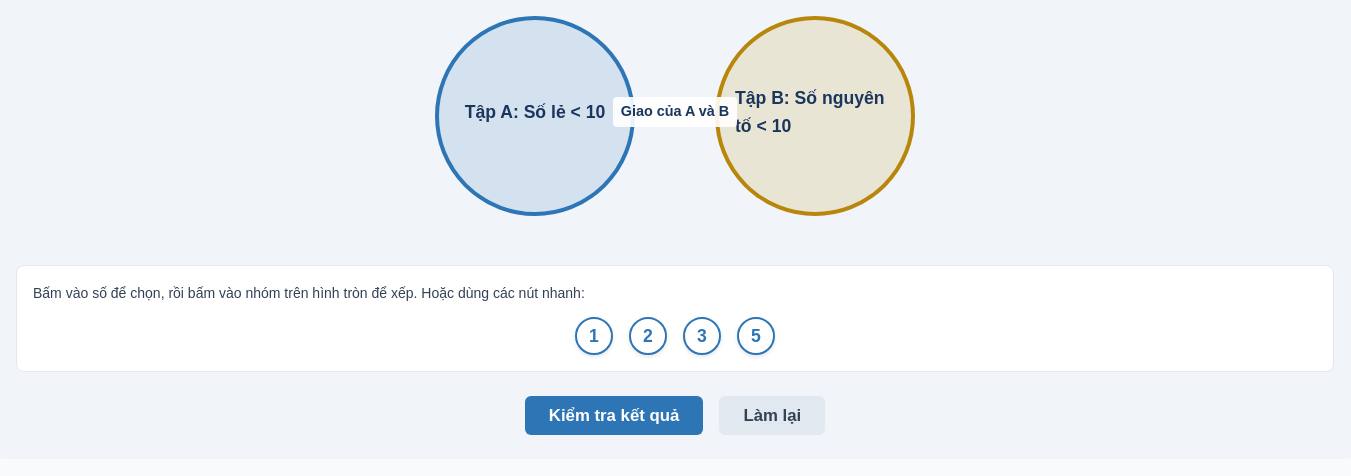
Test case: VennDiagram Component › moves an element back to the pool when clicked inside a set circle
The width and height of the screenshot is (1351, 476).
Move 1 to Set A
What coordinates should you click on to do the following:
click the button with test id "badge-pool-1"
I would click on:
 (594, 336)
Its box is [575,317,613,355].
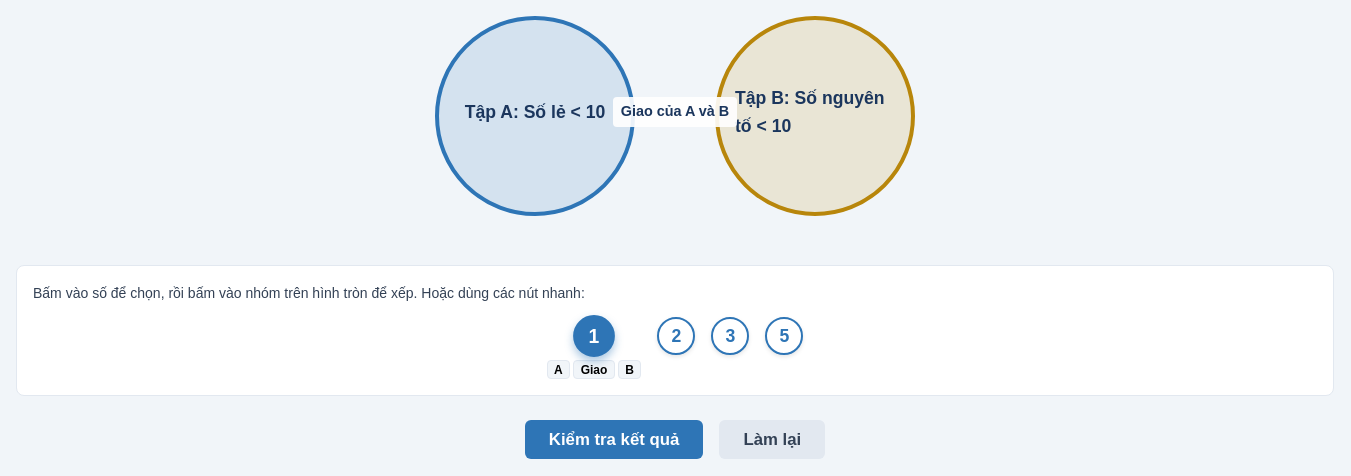
What coordinates should you click on to do the following:
click the button "A"
I would click on:
 (558, 370)
Its box is [547,360,570,379].
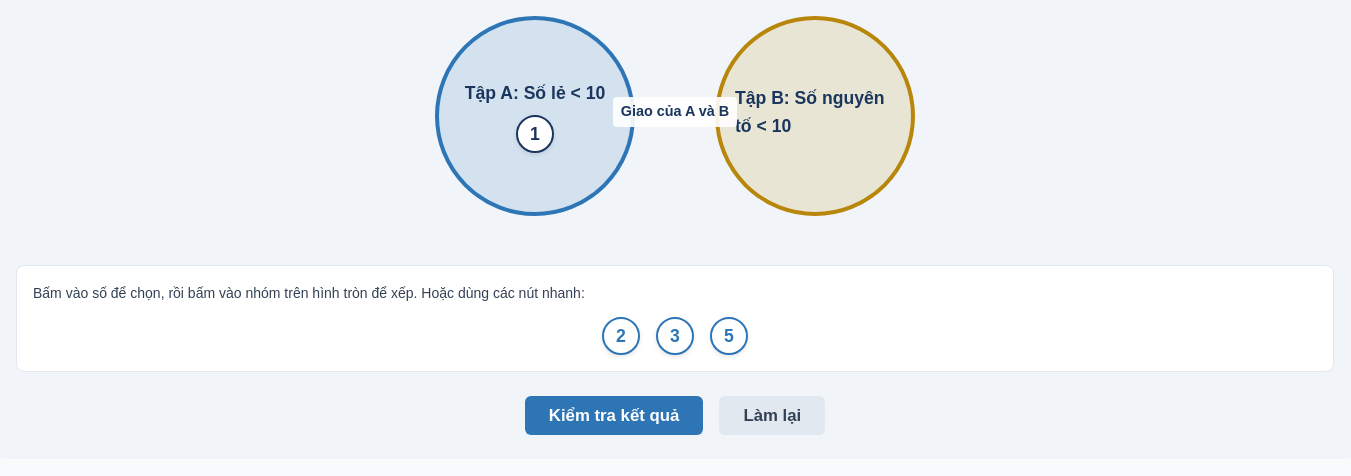
Click badge in Set A circle to return it to the pool
What coordinates should you click on to do the following:
click the button with test id "badge-a-1"
I would click on:
 (535, 134)
Its box is [516,115,554,153].
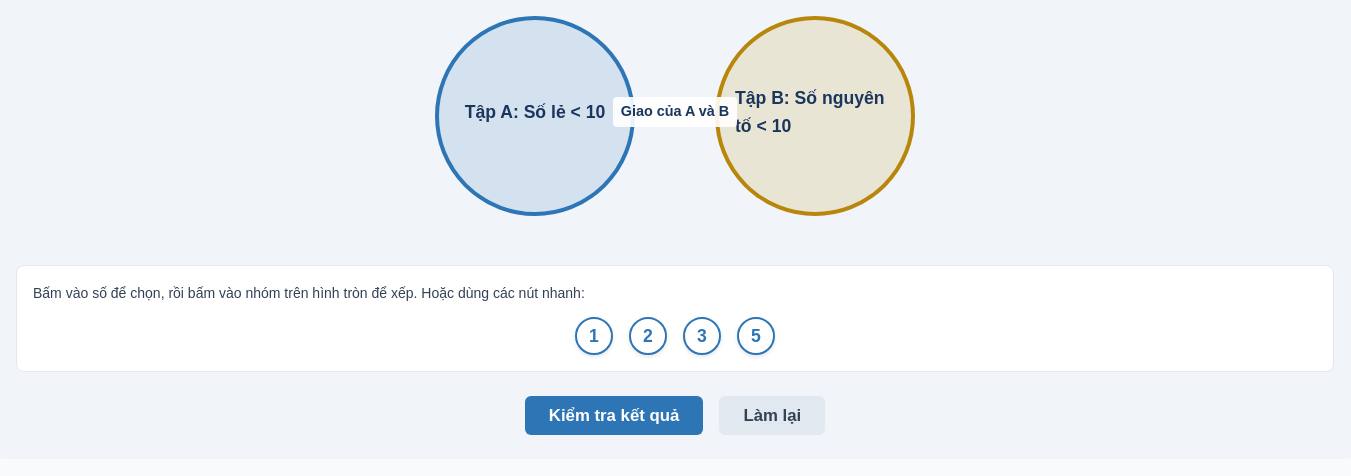
Expected: the button with test id "badge-pool-1" is shown, [575,317,613,355]
Now the button with test id "badge-a-1" is gone
